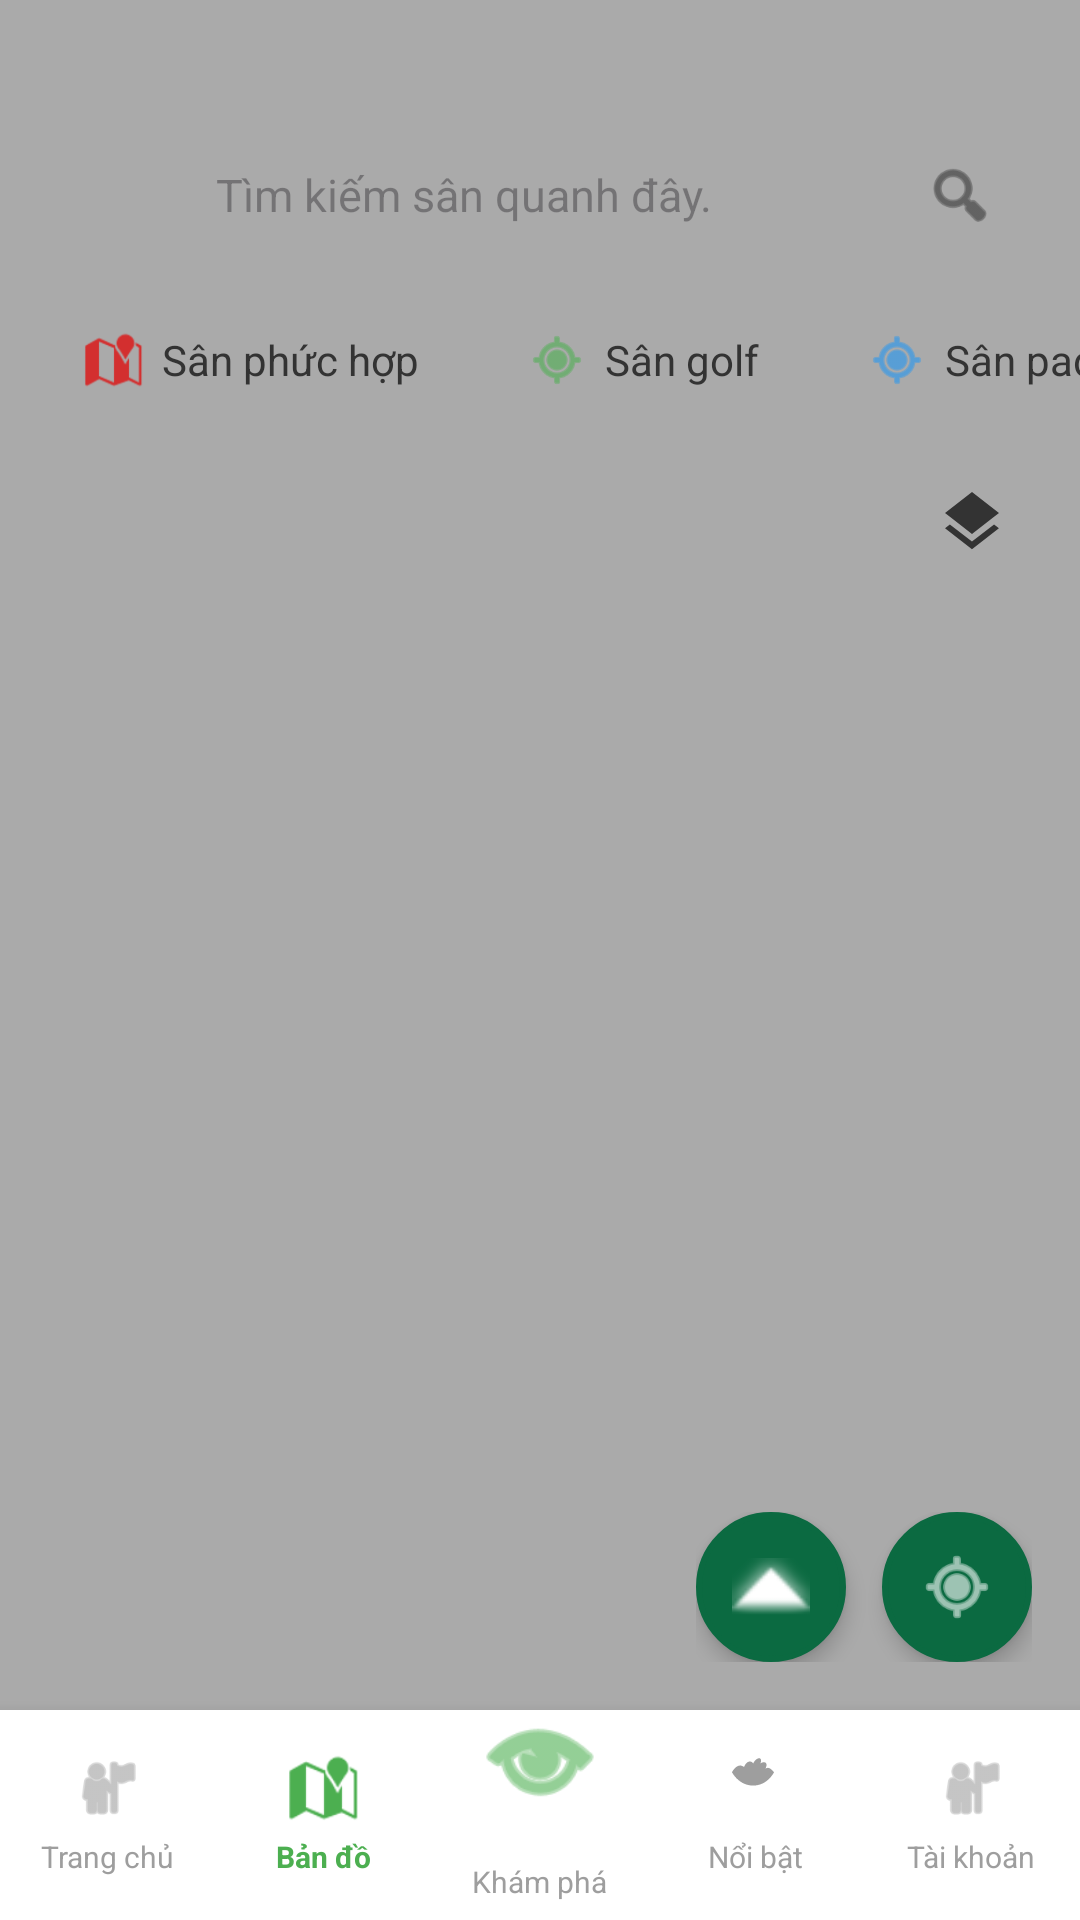

Locate icon controls on the screen. Image size 1080 × 1920, boxes as (x1, y1, x2, y2).
arrow up float: (696, 1512, 846, 1662)
layers: (945, 492, 999, 549)
mylocation: (533, 336, 581, 384), (873, 336, 921, 384), (882, 1512, 1032, 1662)
search: (934, 169, 986, 222)
